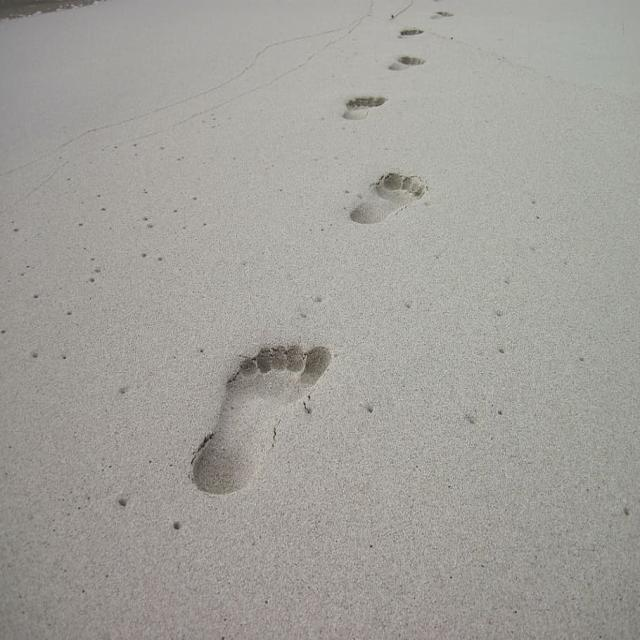human_footprint: (185, 338, 335, 499)
